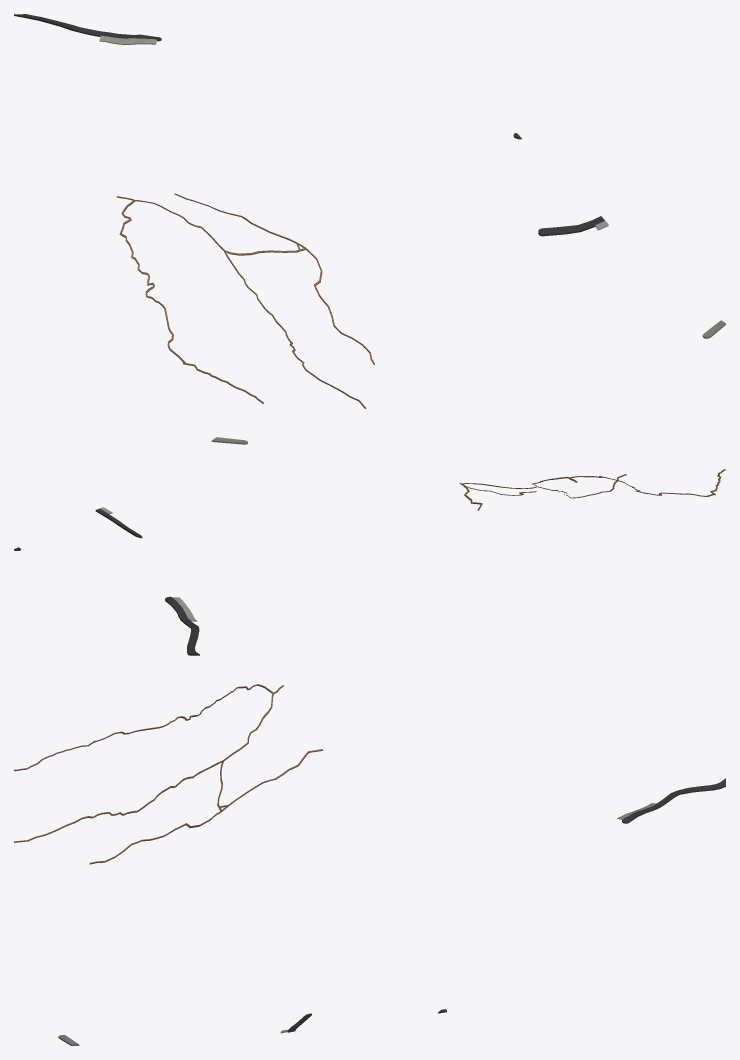
3 views of the same model, one above another, from view 1: azimuth 30°, elevation 25°; view 2: azimuth 150°, elevation 25°; view 3: azimuth 270°, elevation 25° (orthographic). The views are drawn at different scales.
Size of the model in its own units: 453 by 134 by 583.
